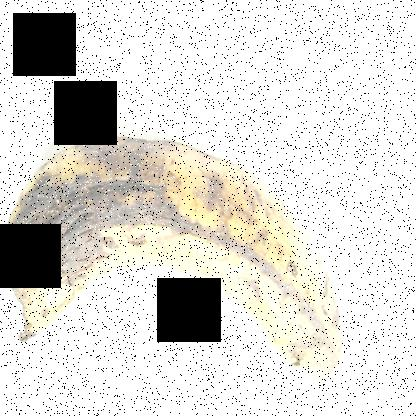rotten: (0, 116, 356, 395)
